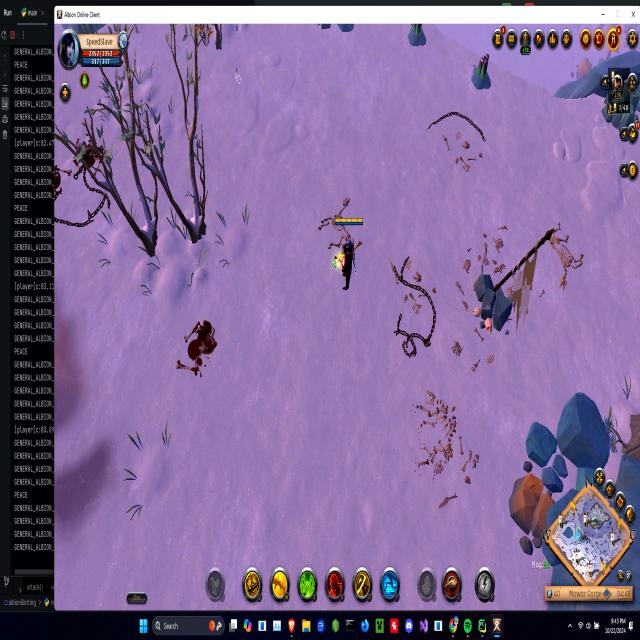player: (469, 50, 493, 95), (406, 21, 432, 56)
red: (323, 207, 366, 294)
tree: (506, 469, 556, 552)
